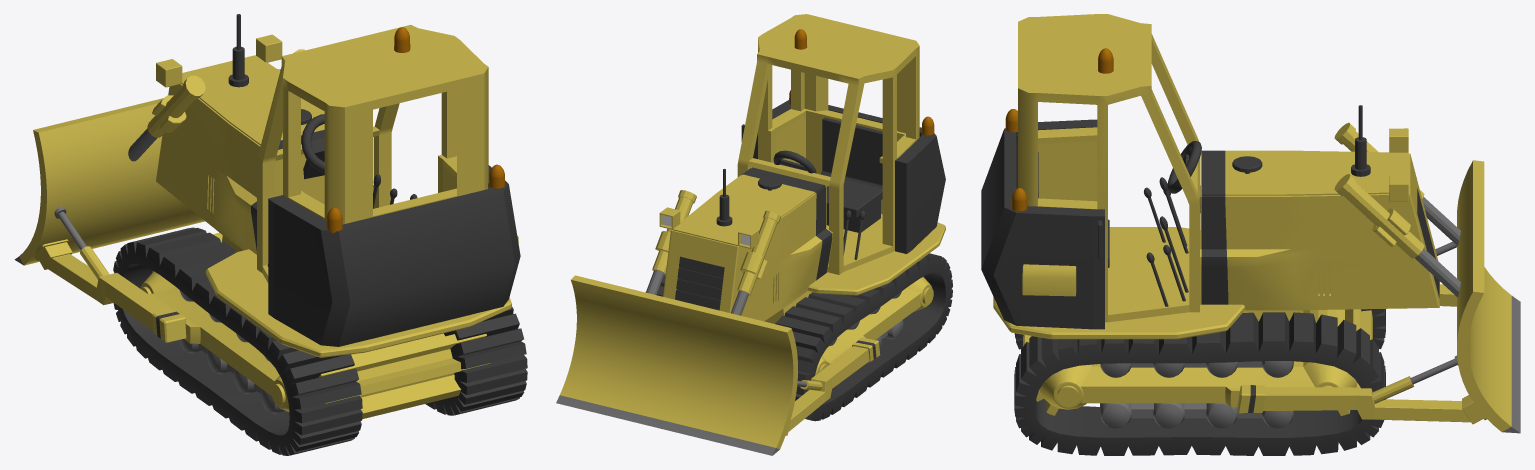
File: dozer.glb
3 renders of one model, left to right at view 1: azimuth 30°, elevation 25°; view 2: azimuth 150°, elevation 25°; view 3: azimuth 270°, elevation 25°, orthographic. The views are drawn at different scales.
Parts seen in each view (by area): view 1: object 1, track1:pPipe2_black_0, track:pPipe2_black_0, object 4; view 2: object 1, track1:pPipe2_black_0, object 4; view 3: object 1, track:pPipe2_black_0, object 4, track1:pPipe2_black_0.
Boxes of the visible parts, x1=… form: object 1: x1=19, y1=14, x2=520, y2=418; track1:pPipe2_black_0: x1=113, y1=227, x2=362, y2=455; track:pPipe2_black_0: x1=425, y1=307, x2=527, y2=415; object 4: x1=14, y1=128, x2=286, y2=413; object 1: x1=560, y1=14, x2=945, y2=449; track1:pPipe2_black_0: x1=775, y1=253, x2=952, y2=421; object 4: x1=556, y1=215, x2=903, y2=455; object 1: x1=981, y1=14, x2=1511, y2=431; track:pPipe2_black_0: x1=1014, y1=312, x2=1385, y2=455; object 4: x1=1100, y1=197, x2=1520, y2=433; track1:pPipe2_black_0: x1=1014, y1=309, x2=1385, y2=349.
Bounding box in the file's own units: 16.13 × 21.11 × 27.93.
